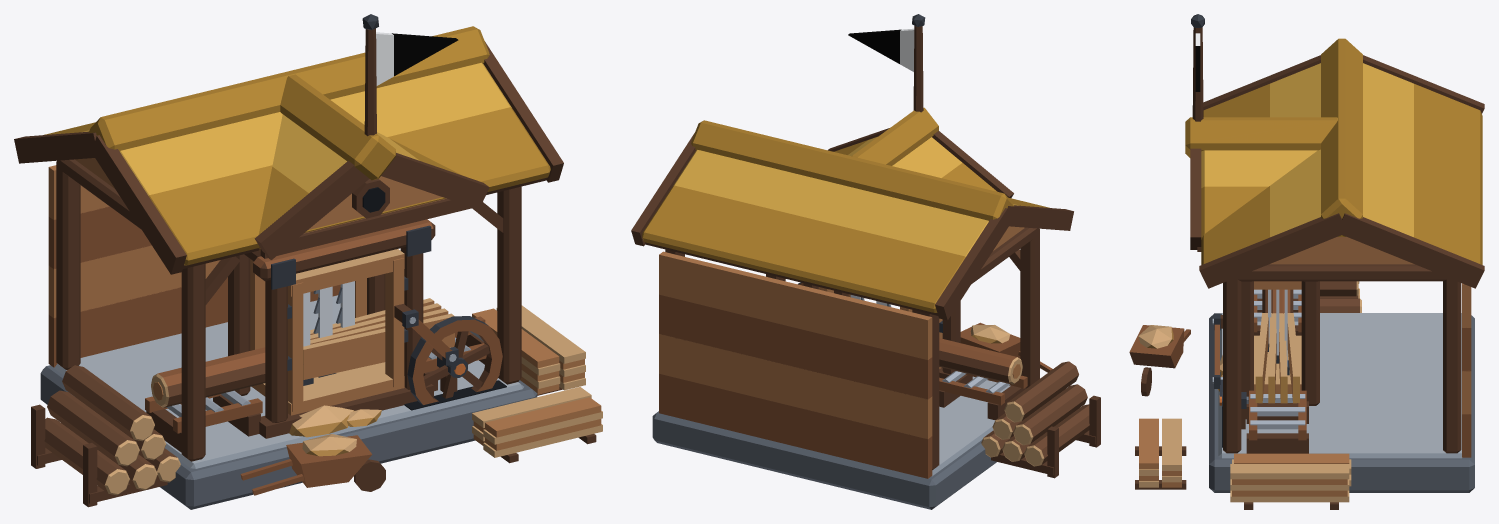
Rendered from Bld_LumberMill_L2.fbx.
3 renders of one model, left to right at view 1: azimuth 30°, elevation 25°; view 2: azimuth 150°, elevation 25°; view 3: azimuth 270°, elevation 25°, orthographic. The views are drawn at different scales.
Parts seen in each view (by area): view 1: Bld_LumberMill_L2; view 2: Bld_LumberMill_L2; view 3: Bld_LumberMill_L2.
Boxes of the visible parts, x1=… form: Bld_LumberMill_L2: x1=14, y1=14, x2=602, y2=509; Bld_LumberMill_L2: x1=631, y1=14, x2=1100, y2=509; Bld_LumberMill_L2: x1=1129, y1=14, x2=1484, y2=509.
Size of the model in its own units: 5.45 by 4.88 by 3.88.
